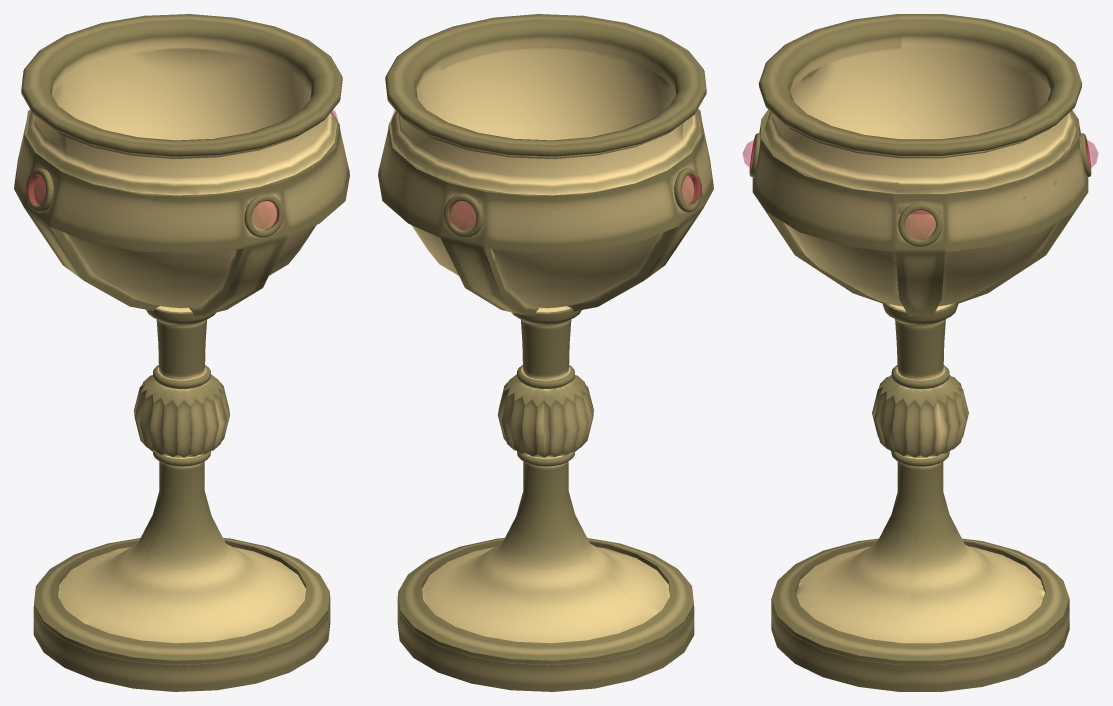
3 renders of one model, left to right at view 1: azimuth 30°, elevation 25°; view 2: azimuth 150°, elevation 25°; view 3: azimuth 270°, elevation 25°, orthographic.
Visible parts, largest first — view 1: goblet, goblet part, gem goblet; view 2: goblet, goblet part, gem goblet; view 3: goblet, goblet part, gem goblet.
Boxes of the visible parts, bbox=[...] form: goblet: bbox=[14, 14, 349, 691]; goblet part: bbox=[134, 374, 229, 457]; gem goblet: bbox=[27, 110, 337, 230]; goblet: bbox=[378, 14, 713, 691]; goblet part: bbox=[498, 374, 593, 457]; gem goblet: bbox=[391, 110, 701, 230]; goblet: bbox=[749, 14, 1091, 691]; goblet part: bbox=[872, 375, 968, 457]; gem goblet: bbox=[742, 139, 1098, 239].
Size of the model in its own units: 92.78 by 158 by 92.78.
2 materials, 1 textured.
